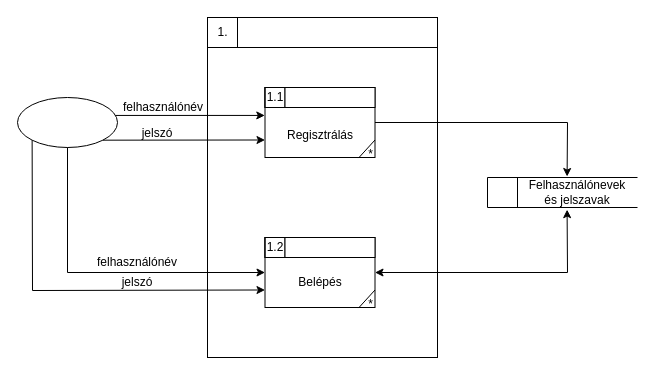
Image size: 655x375. Some labels were removed from this diagram. Each missing label, with the box of its shape:
Felhasználó: (16, 96, 118, 148)
L1: (486, 176, 638, 208)
